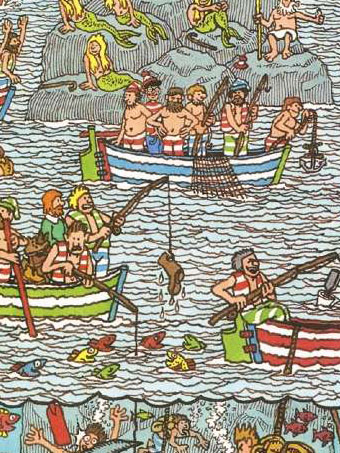waldo: (142, 69, 162, 101)
